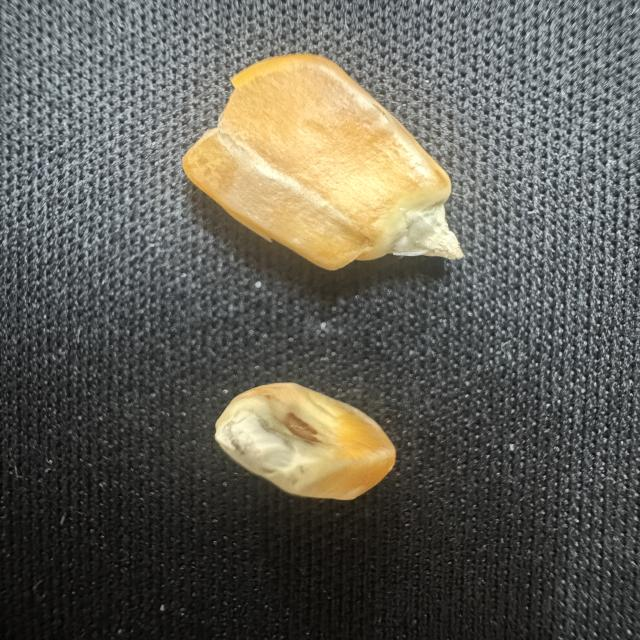Bad-Seed: (174, 46, 484, 280), (208, 376, 411, 512)
